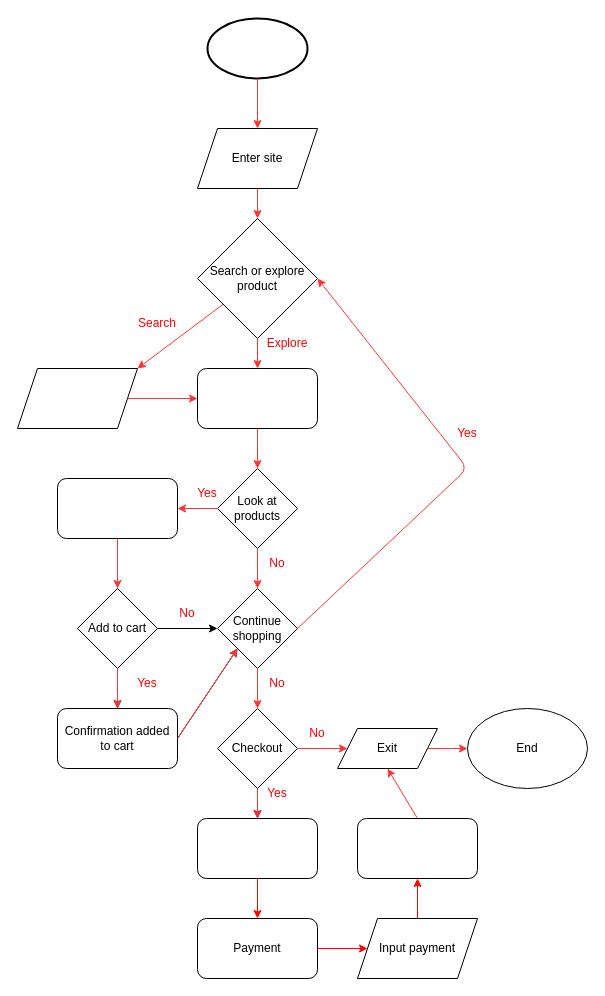
Some shapes in this 605 by 996 pixel diagram are drawn without their labels. Here are the shapes that lost their labels. From the top down, the centre of each, then its label:
the point at 257,48: Start
the point at 77,398: Input search
the point at 257,398: Explore products
the point at 117,508: Product page
the point at 257,848: View cart
the point at 417,848: Order confirmation
